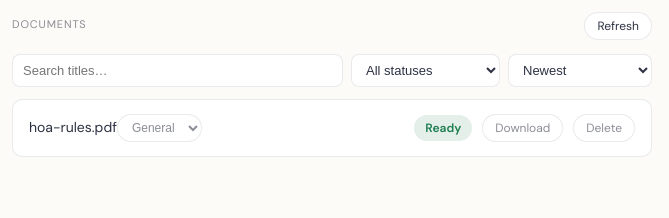
DocumentsView move-to-spoke flow (docs/21 follow-up) › shows a row-level error and keeps the prior selection visually when the move fails
Expected: the text "hoa-rules.pdf" is shown, [29,118,117,136]
Select "Legal" in the dropdown named "Move hoa-rules.pdf to a different spoke" at (159, 128), box [117,114,202,142]
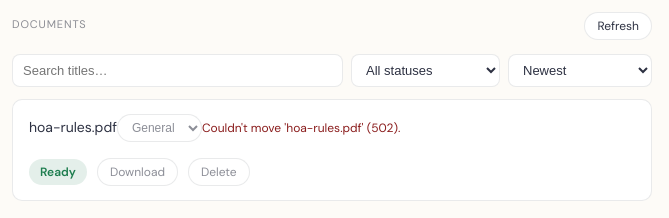
Expected: the text "Couldn't move 'hoa-rules.pdf' (502)." is shown, [202,120,400,136]
